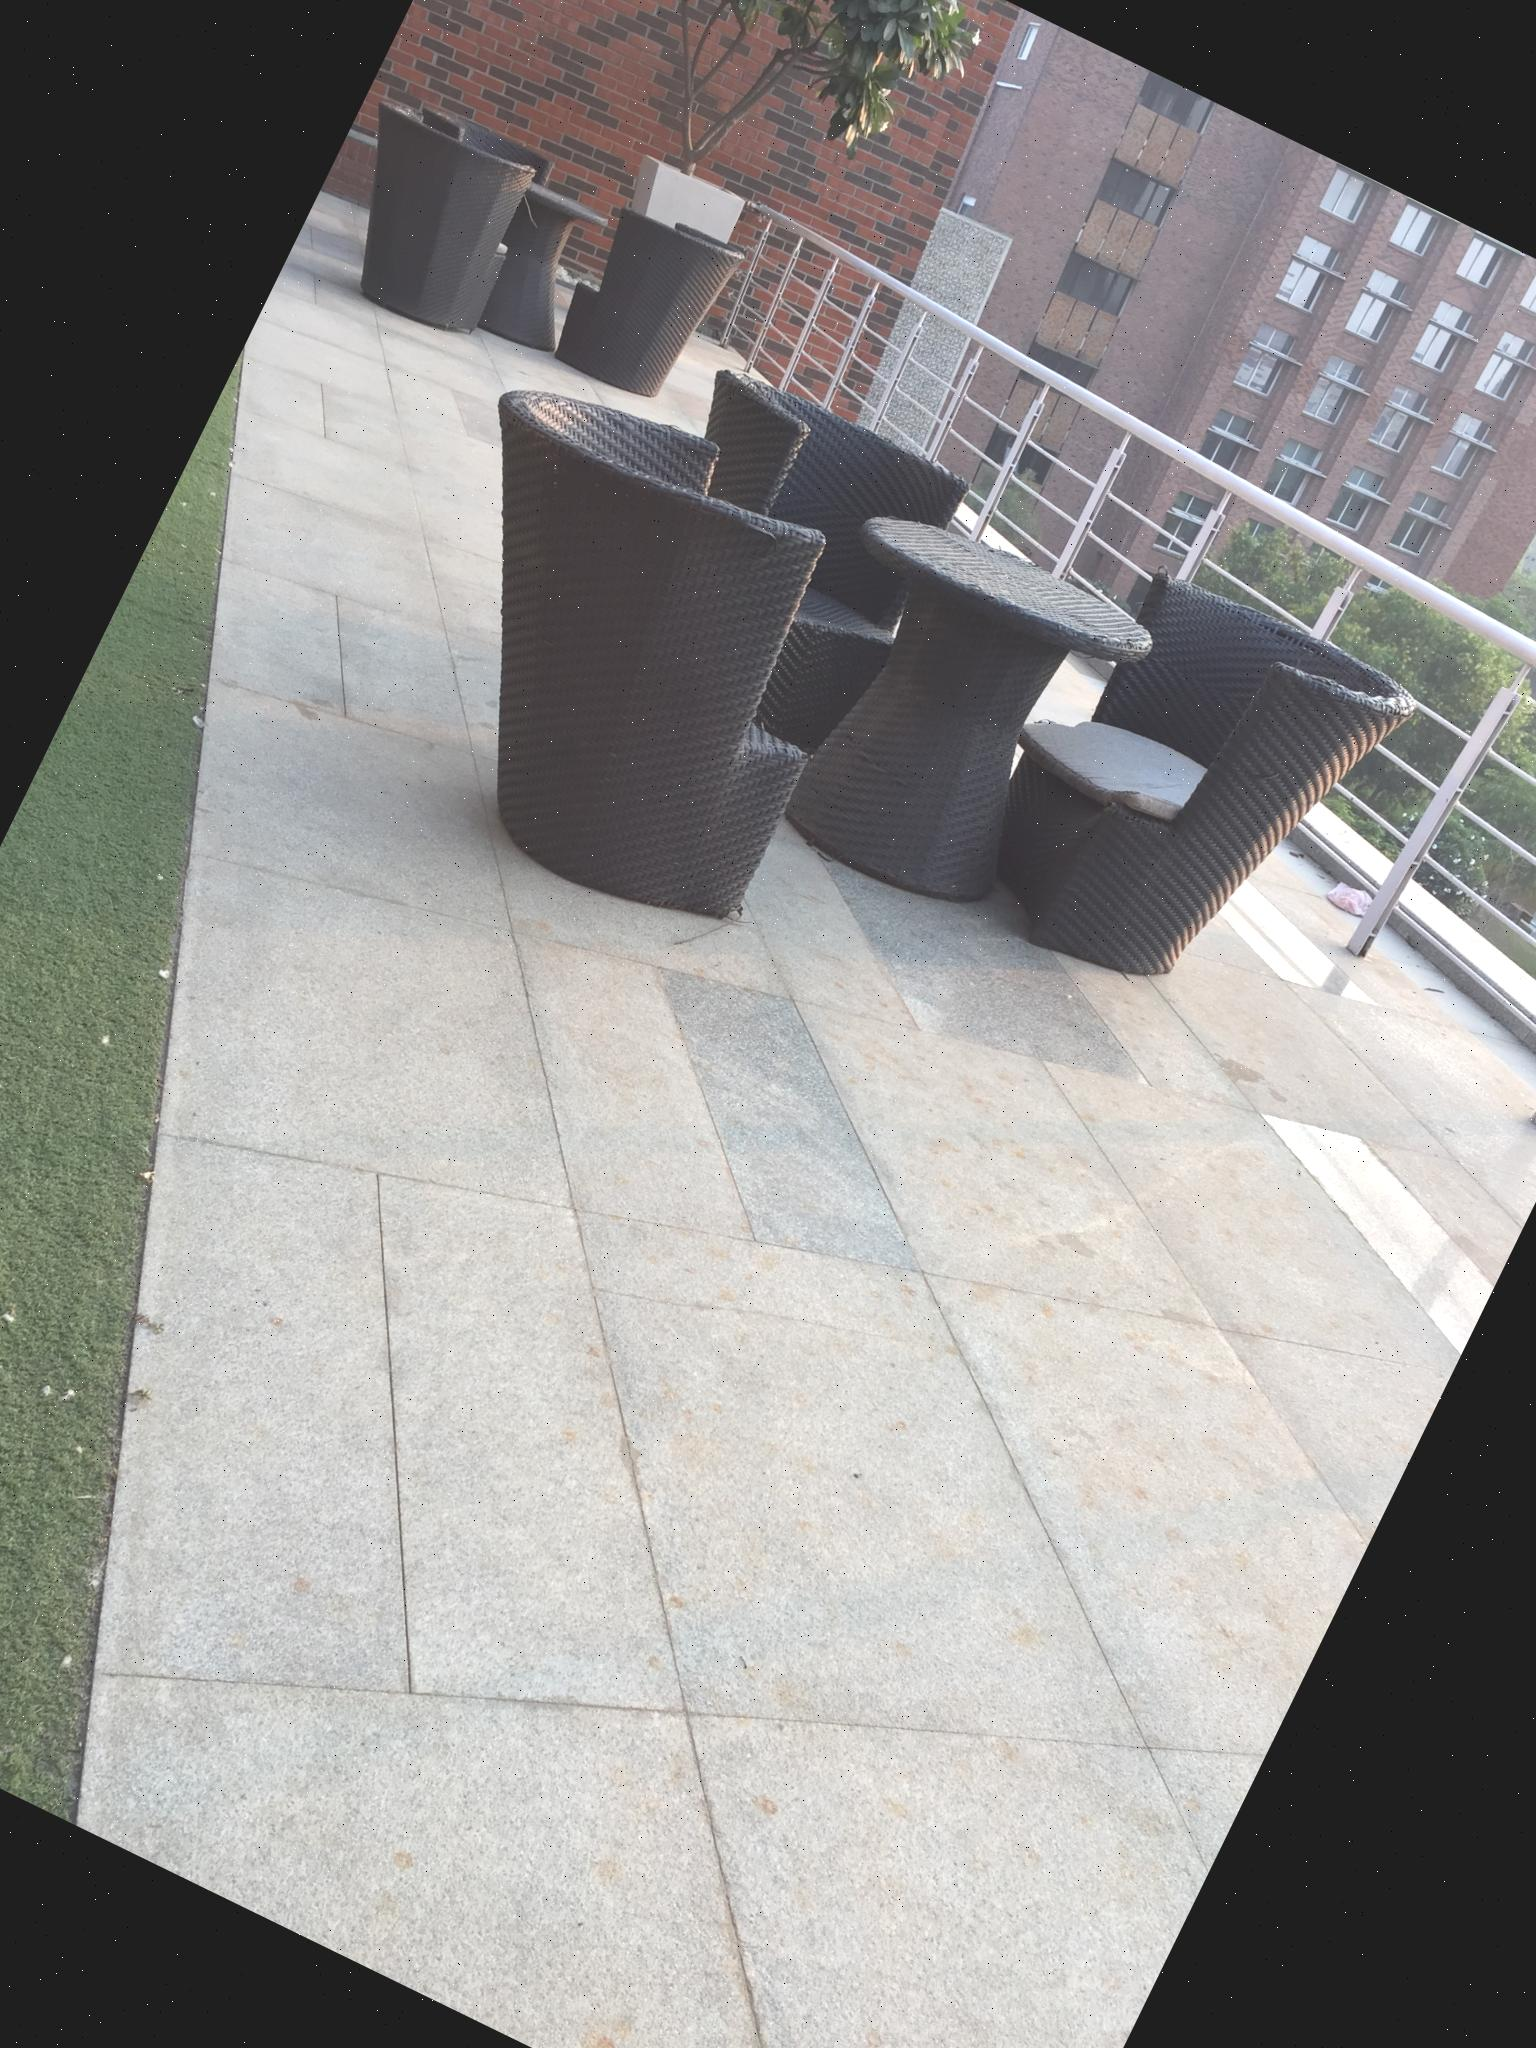chair: (321, 347, 921, 956), (939, 537, 1426, 1050), (584, 355, 978, 766), (300, 79, 573, 369), (560, 169, 792, 413)
